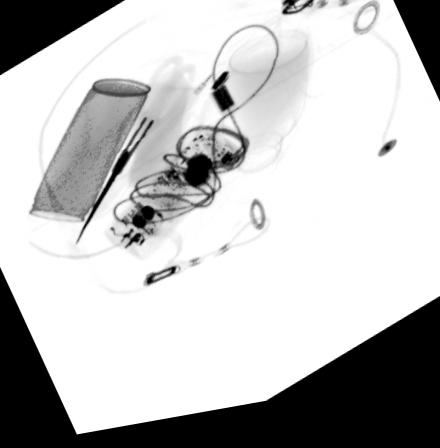Scissors: (73, 57, 197, 248)
